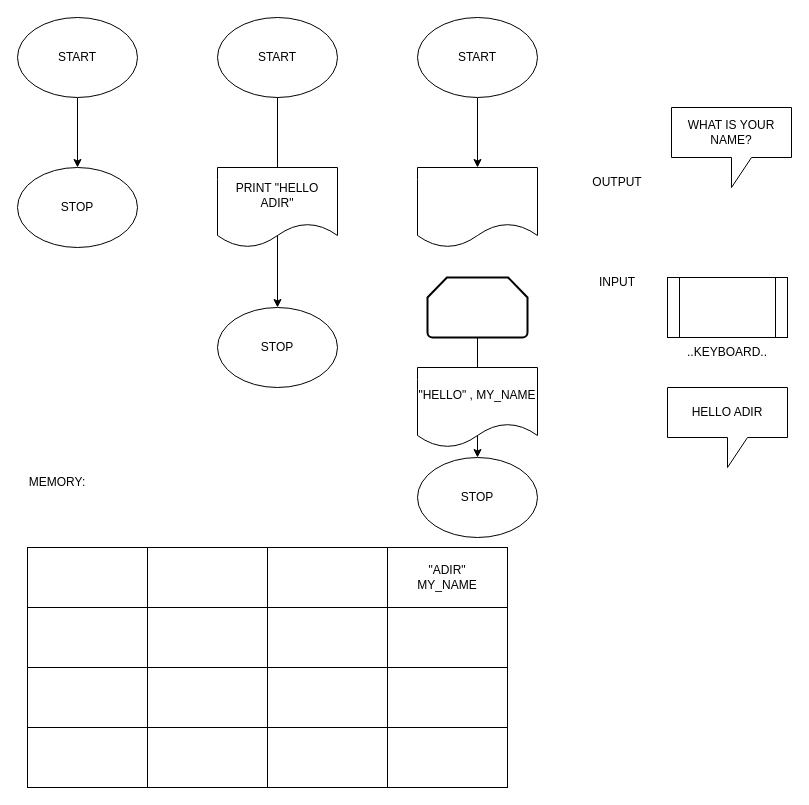
This 809x805 diagram has some shape labels left out. The box of each missing label's shape, as (x1, y1, x2, y2) in pixels:
"WHAT IS YOUR NAME?": (416, 166, 538, 248)
ADIR: (666, 276, 788, 338)
MY_NAME: (426, 276, 528, 338)
